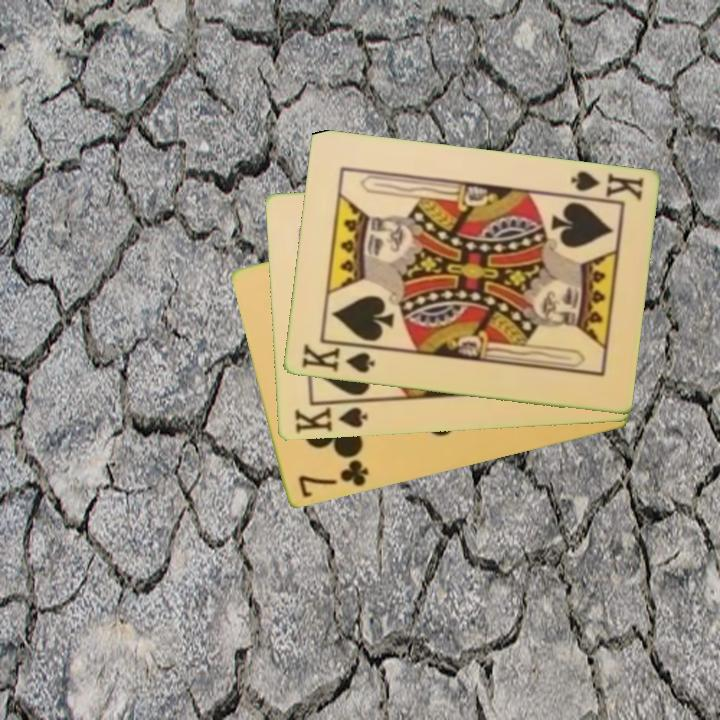7c: (294, 456, 372, 501)
Ks: (563, 168, 646, 205), (298, 340, 379, 377), (290, 404, 370, 437)
